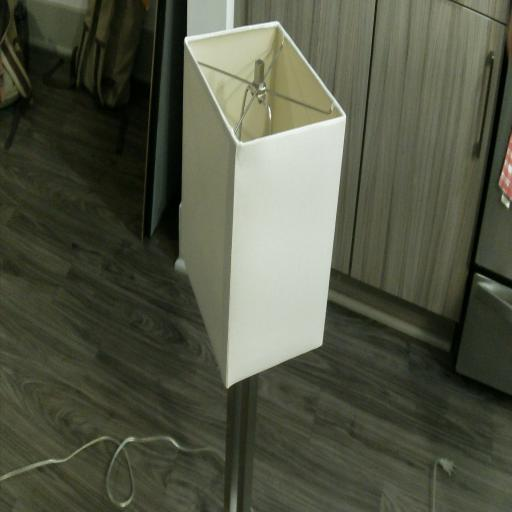lamp: (180, 19, 347, 512)
